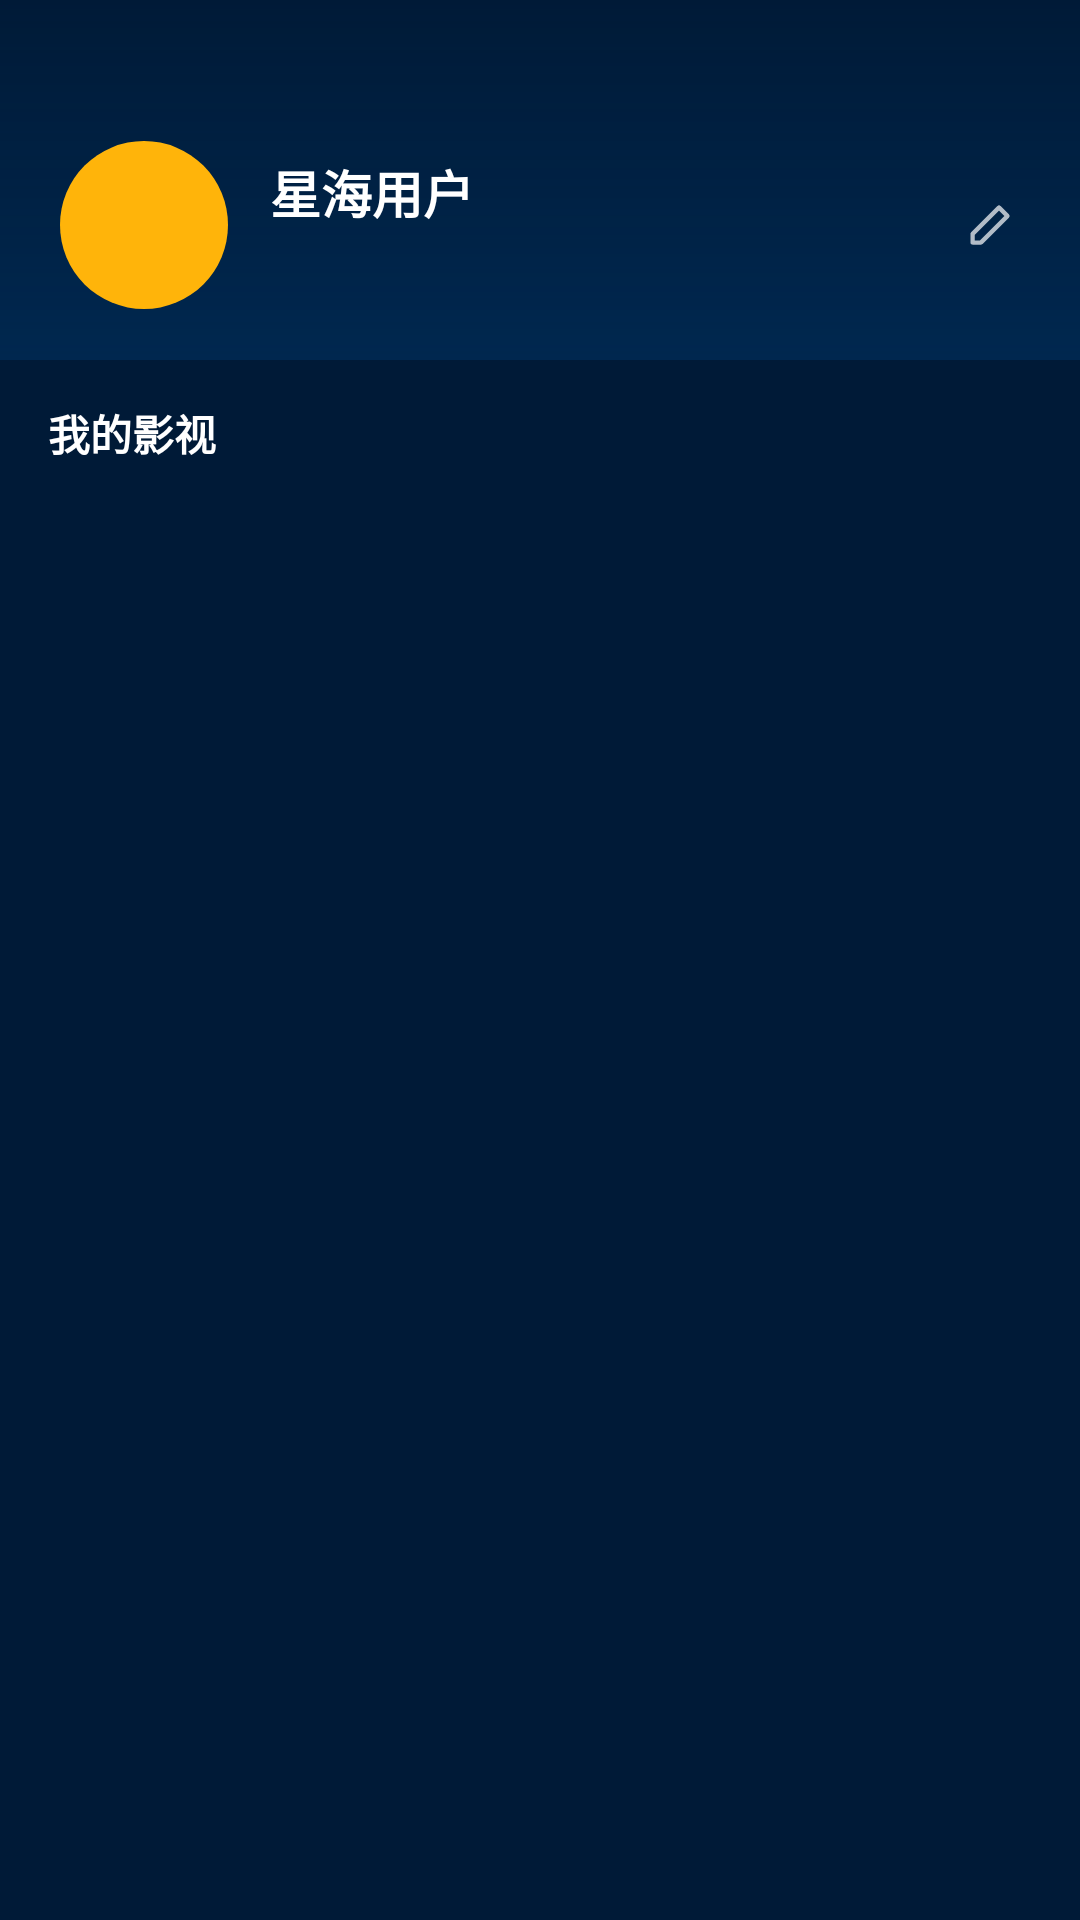

Where icons sit on this 1080 × 1920 app screen, as (x1, y1, x2, y2):
edit: (970, 205, 1010, 245)
